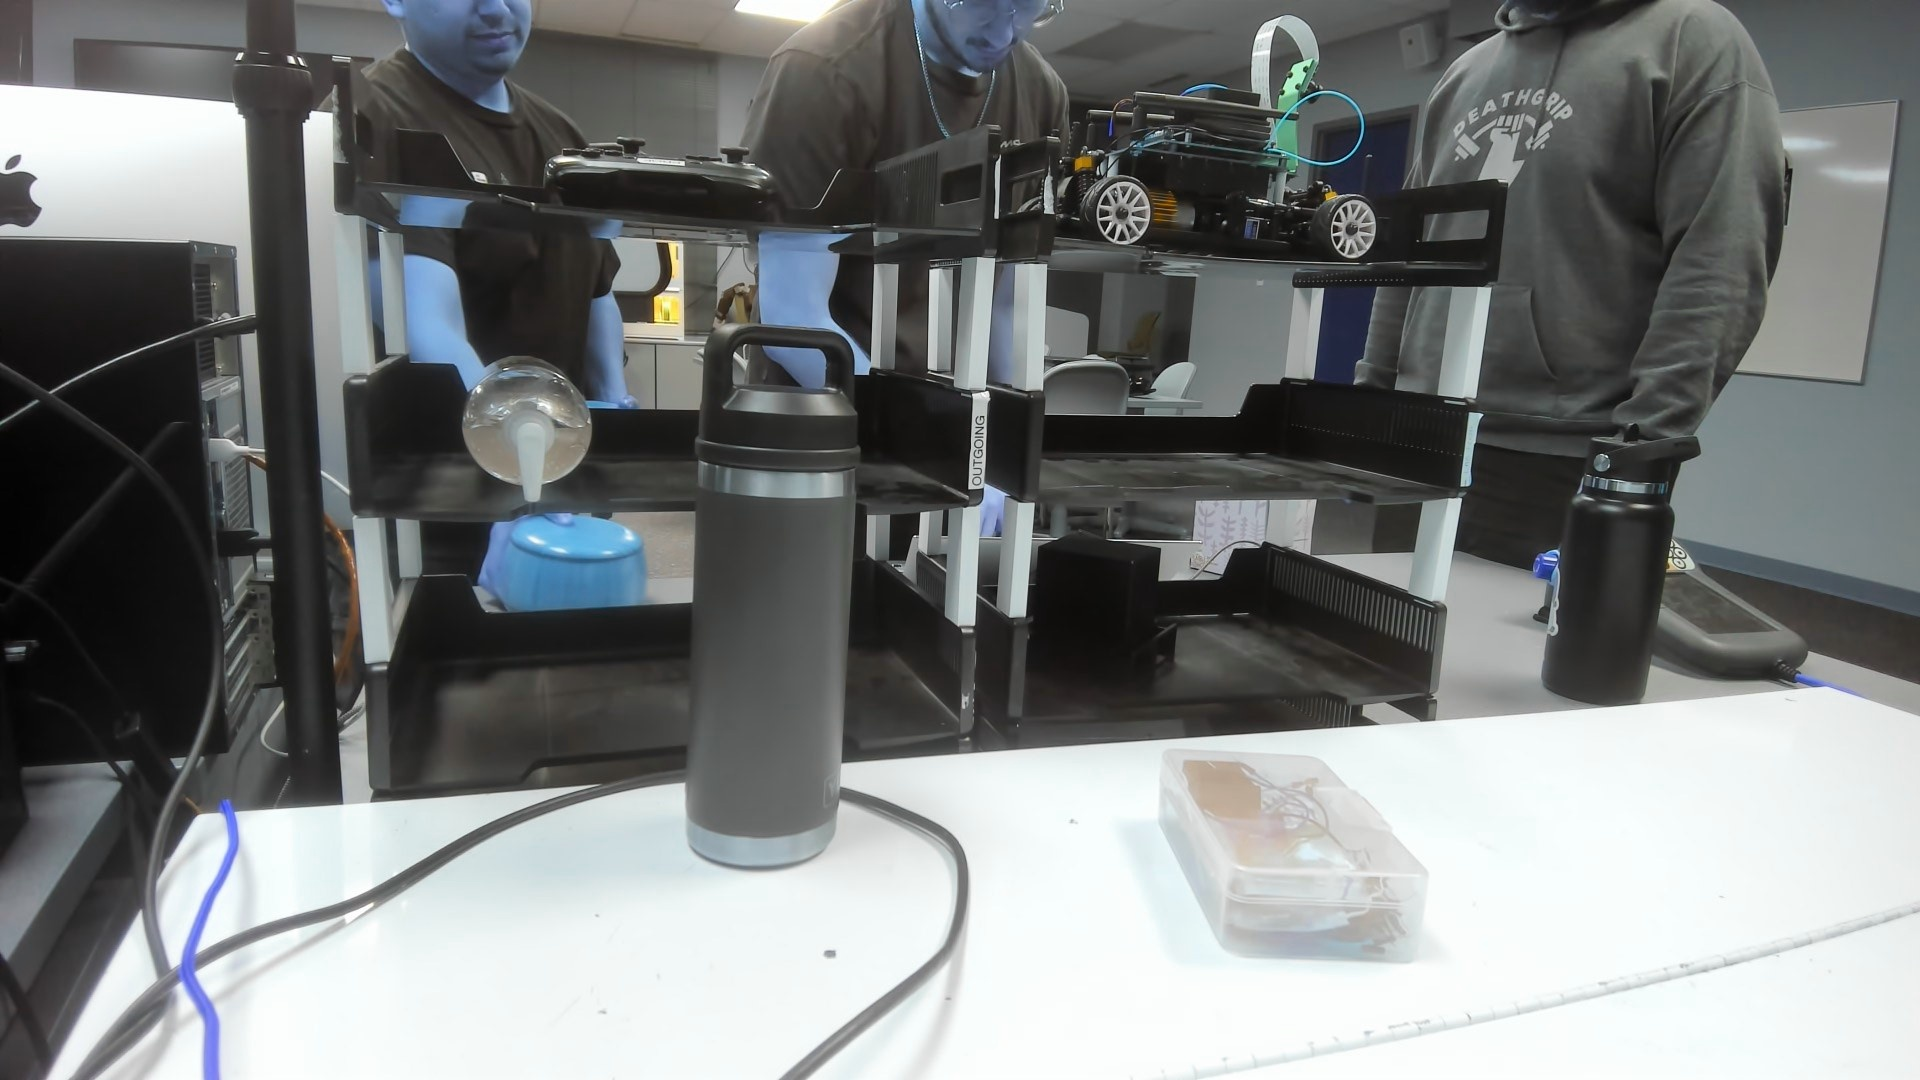black pallet: (1015, 530, 1180, 694)
